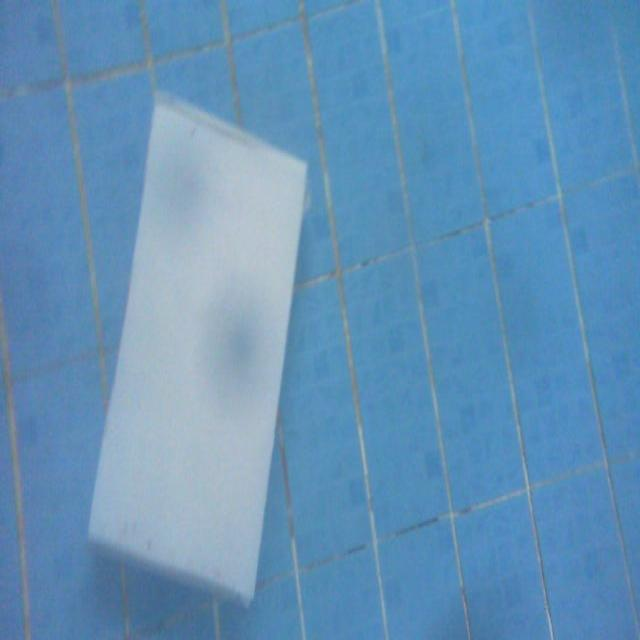Cuboid: (86, 89, 309, 606)
